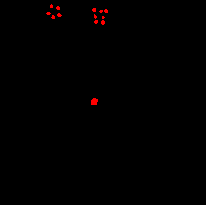Target: (91, 98, 98, 105), (57, 13, 62, 17), (101, 20, 105, 25), (56, 6, 60, 10), (92, 8, 96, 12), (104, 9, 108, 13), (51, 15, 55, 19), (94, 20, 98, 24), (46, 12, 51, 15), (94, 14, 97, 19), (50, 4, 53, 8), (99, 10, 103, 13), (102, 16, 105, 19)
